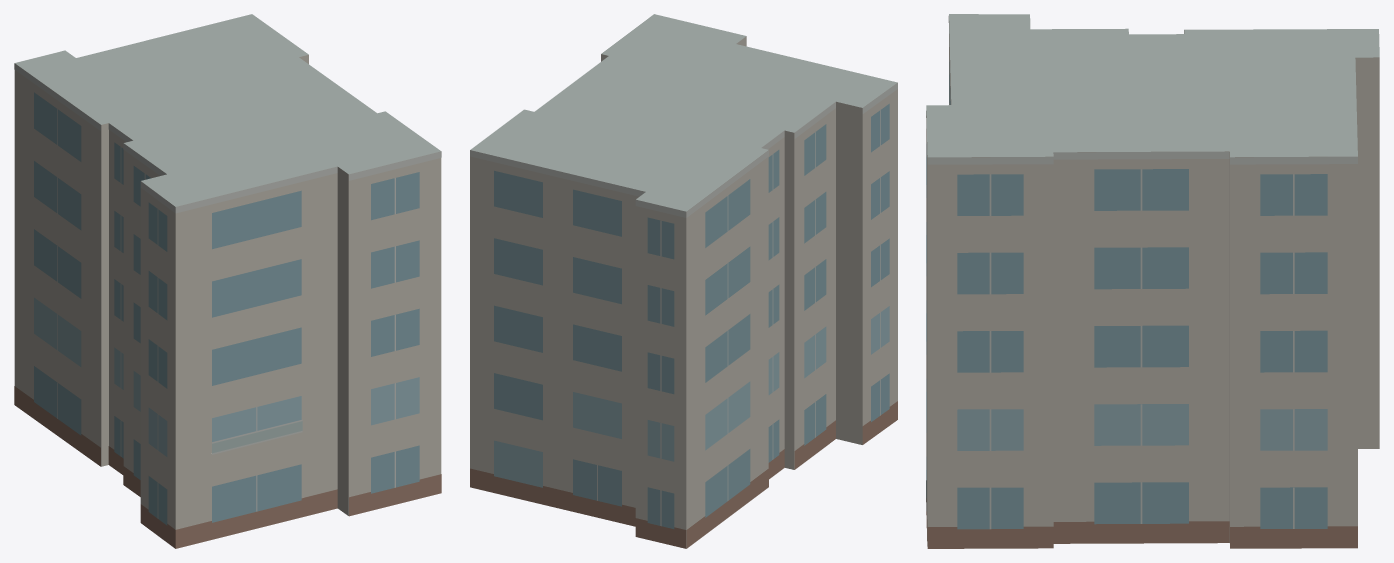
The model's file is survey-upis-32954068.glb.
3 views of the same model, side by side, from view 1: azimuth 30°, elevation 25°; view 2: azimuth 150°, elevation 25°; view 3: azimuth 270°, elevation 25° (orthographic). The views are drawn at different scales.
Visible parts, largest first — view 1: survey-upis-32954068.tmp; view 2: survey-upis-32954068.tmp; view 3: survey-upis-32954068.tmp.
Part boxes in pixels (<box>): survey-upis-32954068.tmp: <box>14,14,441,548</box>; survey-upis-32954068.tmp: <box>470,14,897,548</box>; survey-upis-32954068.tmp: <box>926,14,1379,548</box>.
Size of the model in its own units: 10.06 by 12.8 by 13.45.
